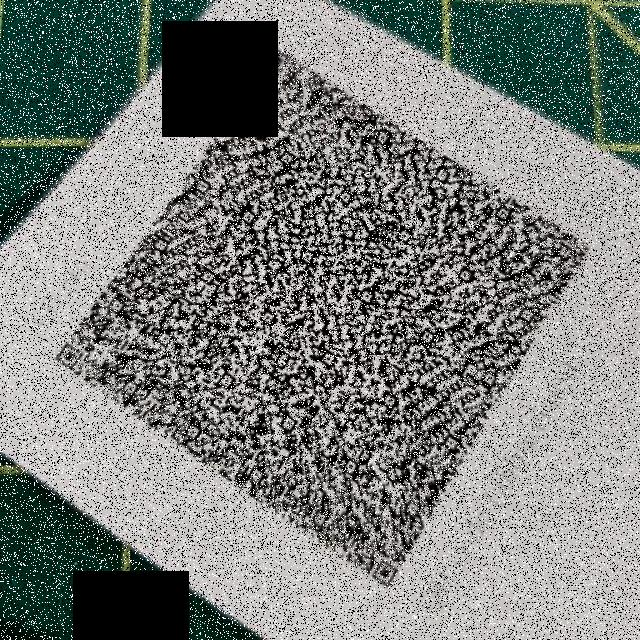QR_CODE: (41, 31, 598, 598)
